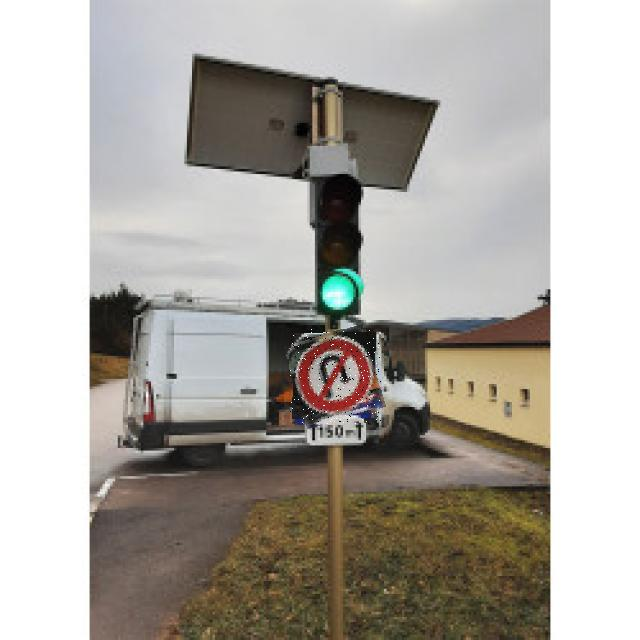no u turn: (289, 329, 381, 424)
